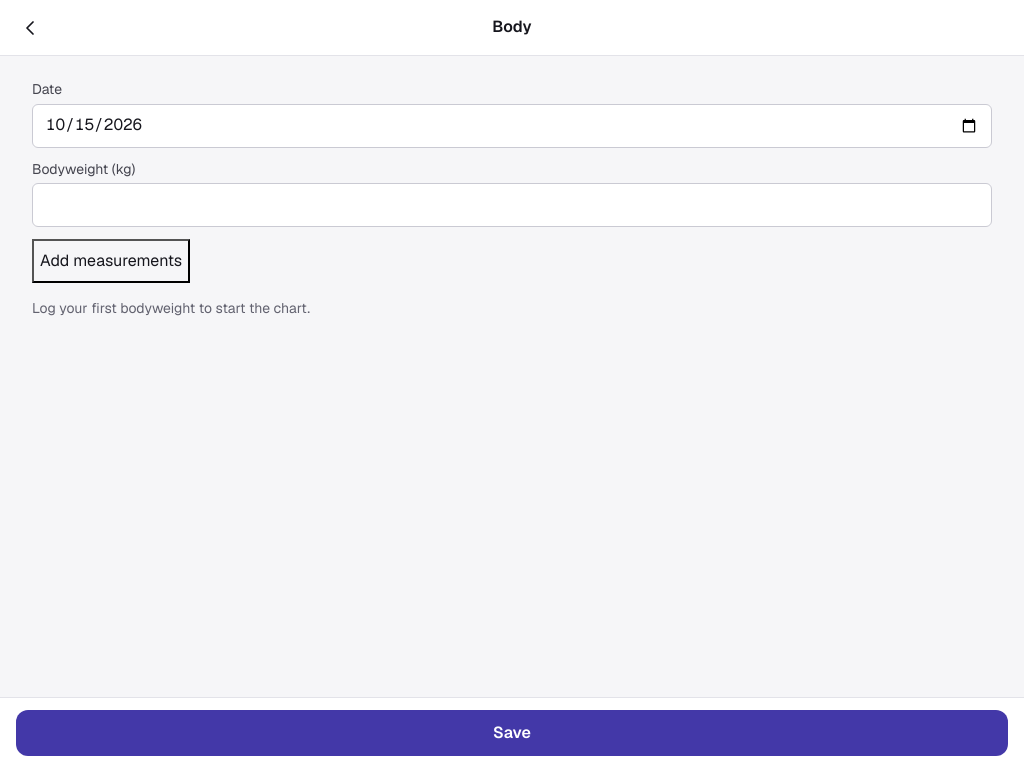
Scenario: E22-T7 O17 logging a bodyweight › O17 a value out of range shows an inline error and stores nothing
Type "500" into the number field labelled "Bodyweight (kg)" at (512, 205), box top-left (32, 183), bottom-right (992, 227)
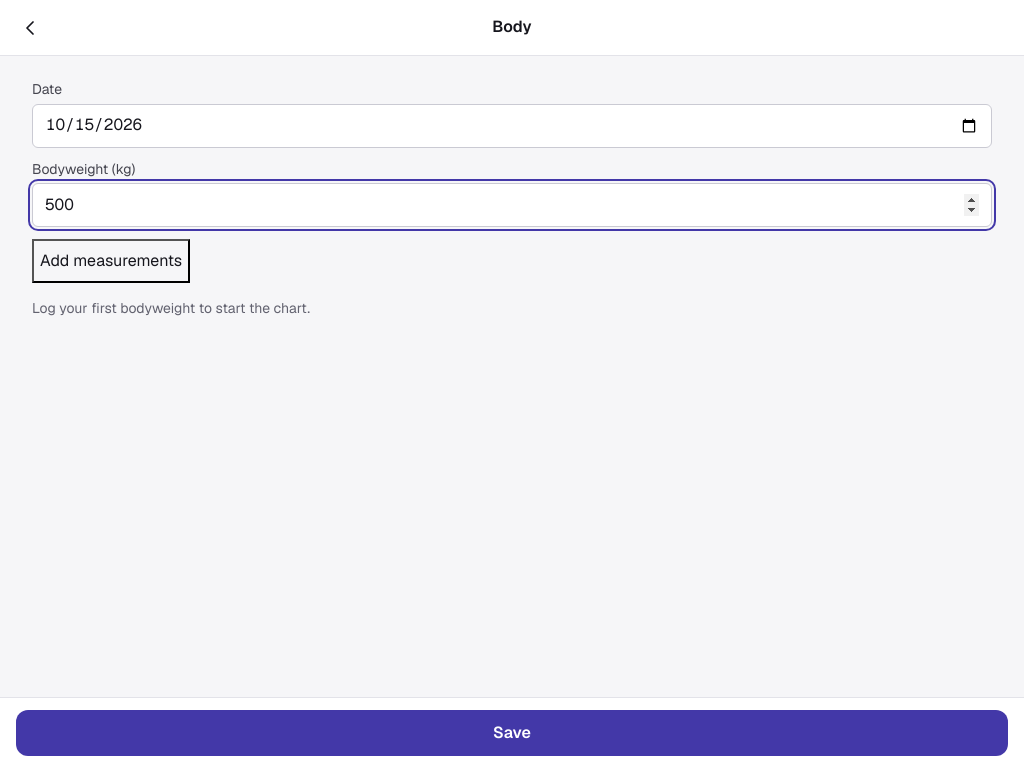
Click the button "Save" at (512, 733), box top-left (16, 710), bottom-right (1008, 756)
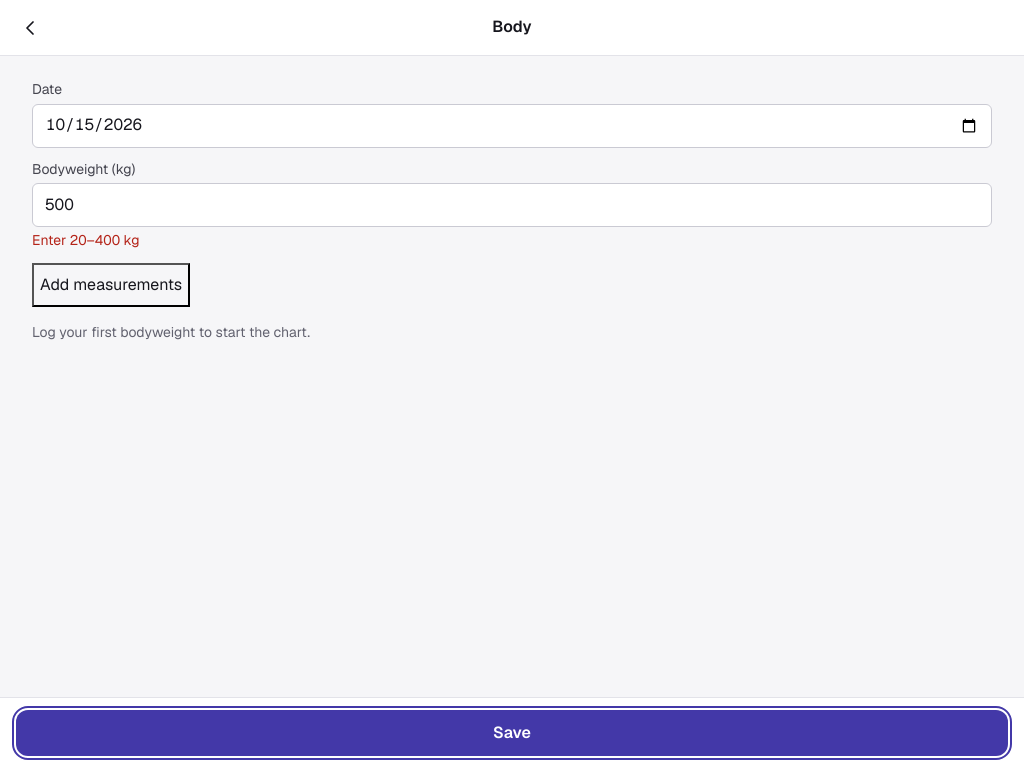
Expected: the message reads "Enter 20–400 kg", top-left (32, 231), bottom-right (140, 249)
